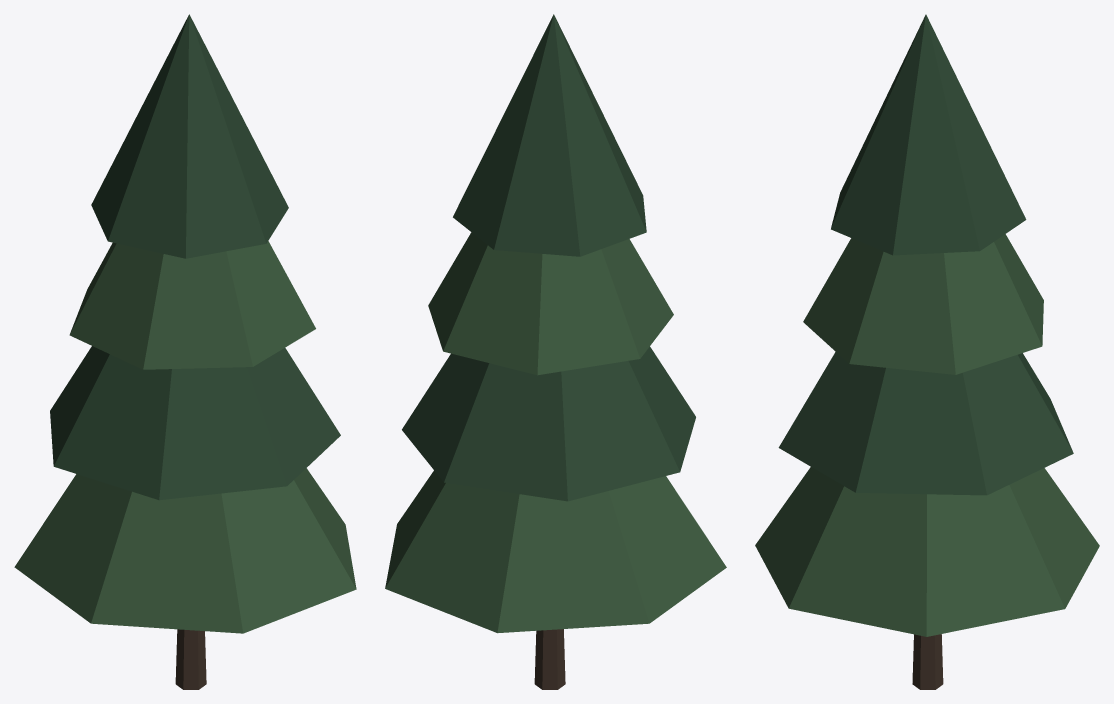
Rendered from spruce_2.glb.
3 renders of one model, left to right at view 1: azimuth 30°, elevation 25°; view 2: azimuth 150°, elevation 25°; view 3: azimuth 270°, elevation 25°, orthographic.
Visible parts, largest first — view 1: spruce_2; view 2: spruce_2; view 3: spruce_2.
Part boxes in pixels (left/top/right/bottom): spruce_2: left=14, top=14, right=356, bottom=689; spruce_2: left=385, top=14, right=726, bottom=689; spruce_2: left=755, top=14, right=1099, bottom=689.
Bounding box in the file's own units: 4.79 × 10.52 × 4.91.
